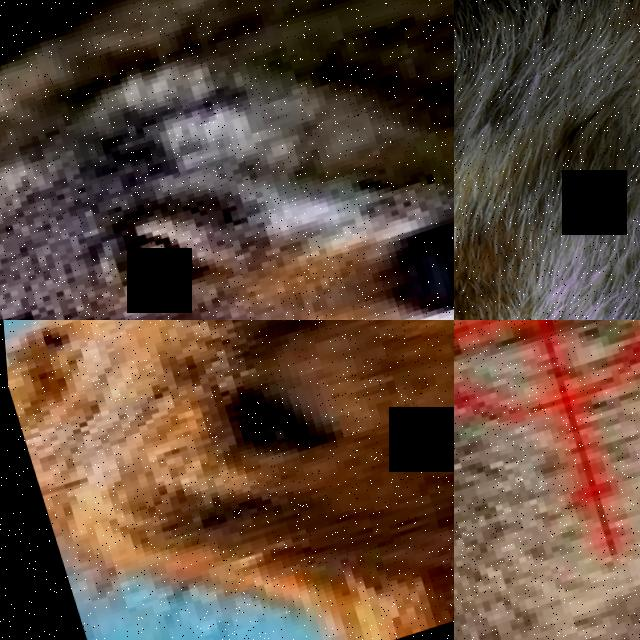dog: (0, 320, 454, 640)
wolf: (0, 0, 454, 320), (454, 0, 640, 320), (454, 320, 640, 640)
